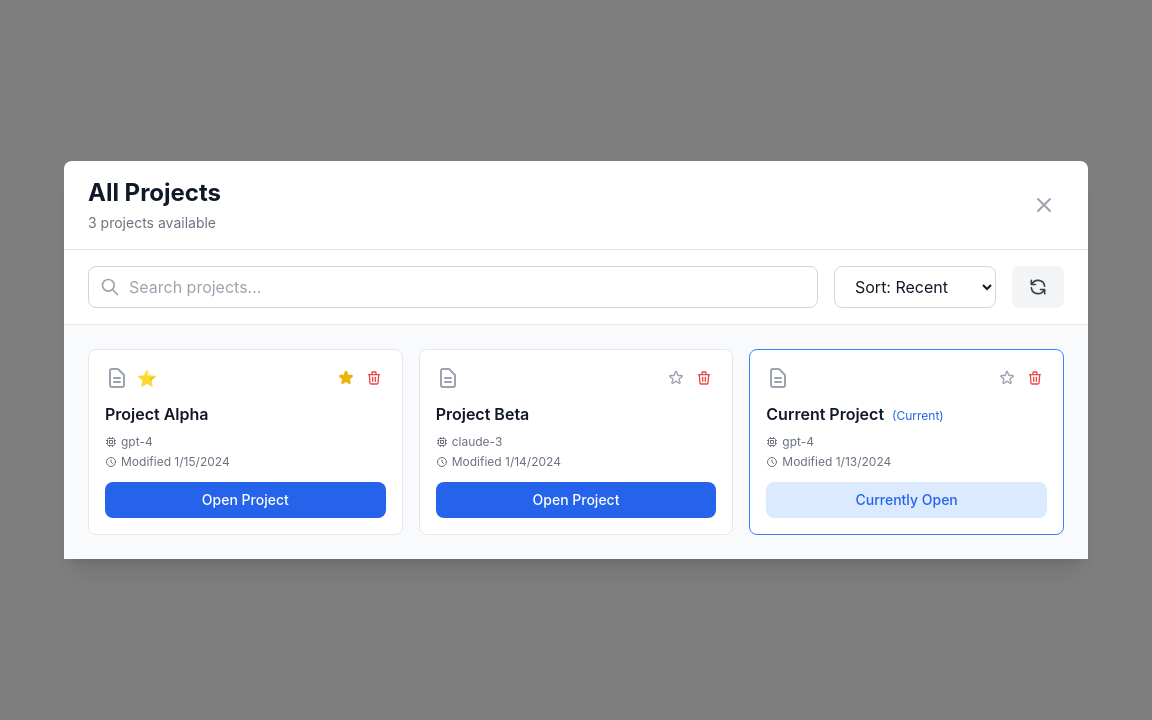
Test: ProjectSwitcher › Search Functionality › should filter projects by search query
Expected: the heading "Project Alpha" is shown, [105,404,208,424]
In the field with placeholder "Search projects...": [453, 287] box [88,266,818,308], type "Alpha"
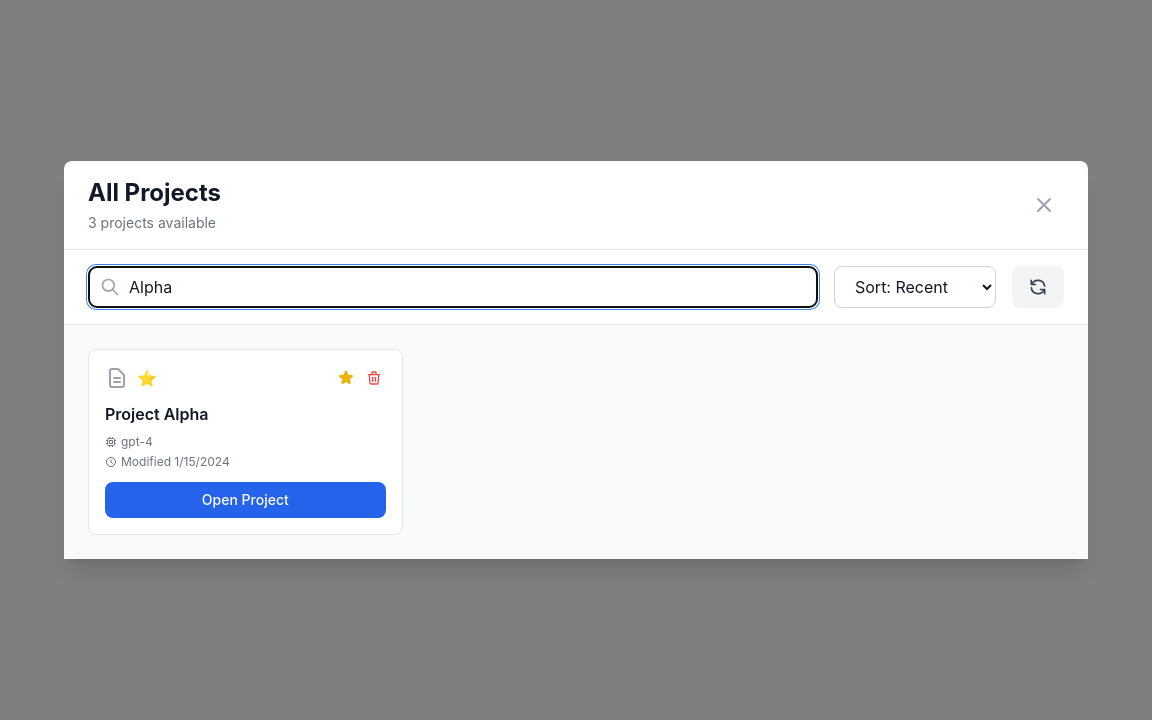
Expected: the heading "Project Alpha" is shown, [105,404,208,424]
Now the heading "Project Beta" is gone
